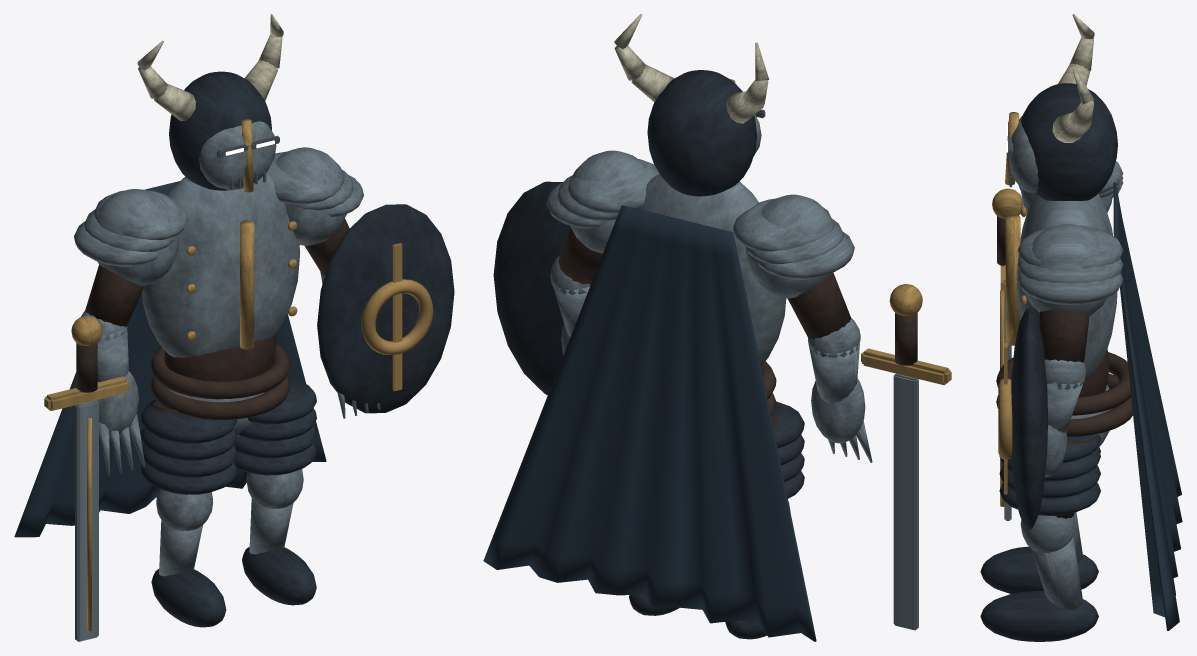
File: enemy_ice_knight.glb
3 renders of one model, left to right at view 1: azimuth 30°, elevation 25°; view 2: azimuth 150°, elevation 25°; view 3: azimuth 270°, elevation 25°, orthographic. The views are drawn at different scales.
Parts seen in each view (by area): view 1: Weathered_blue_steel, Forged_black_iron.003, Weathered_blue_steel.002, Woven_midnight_wool, Forged_black_iron, Oiled_leather, Forged_black_iron.001, Antique_brass.002, Weathered_blue_steel.004, Forged_black_iron.002, Weathered_blue_steel.006, Weathered_blue_steel.001 (+8 smaller); view 2: Woven_midnight_wool, Weathered_blue_steel.002, Forged_black_iron.003, Forged_black_iron.002, Weathered_blue_steel.004, Weathered_blue_steel.006, Weathered_blue_steel, Aged_bone, Forged_black_iron, Oiled_leather.002, Antique_brass.002, Oiled_leather.004 (+1 smaller); view 3: Woven_midnight_wool, Weathered_blue_steel.004, Forged_black_iron.001, Forged_black_iron.002, Forged_black_iron.003, Weathered_blue_steel, Oiled_leather, Weathered_blue_steel.003, Antique_brass.002, Forged_black_iron, Aged_bone, Oiled_leather.004 (+6 smaller).
Boxes of the visible parts, x1=… form: Weathered_blue_steel: x1=142, y1=173, x2=299, y2=437; Forged_black_iron.003: x1=317, y1=204, x2=454, y2=413; Weathered_blue_steel.002: x1=74, y1=189, x2=188, y2=475; Woven_midnight_wool: x1=14, y1=181, x2=326, y2=537; Forged_black_iron: x1=140, y1=400, x2=237, y2=627; Oiled_leather: x1=150, y1=335, x2=290, y2=419; Forged_black_iron.001: x1=234, y1=377, x2=316, y2=605; Antique_brass.002: x1=44, y1=243, x2=433, y2=631; Weathered_blue_steel.004: x1=266, y1=147, x2=380, y2=418; Forged_black_iron.002: x1=169, y1=71, x2=271, y2=190; Weathered_blue_steel.006: x1=75, y1=400, x2=98, y2=641; Weathered_blue_steel.001: x1=156, y1=489, x2=213, y2=576; Woven_midnight_wool: x1=483, y1=205, x2=816, y2=641; Weathered_blue_steel.002: x1=733, y1=194, x2=872, y2=462; Forged_black_iron.003: x1=493, y1=181, x2=570, y2=395; Forged_black_iron.002: x1=647, y1=70, x2=756, y2=196; Weathered_blue_steel.004: x1=546, y1=150, x2=659, y2=354; Weathered_blue_steel.006: x1=893, y1=373, x2=918, y2=630; Weathered_blue_steel: x1=640, y1=174, x2=786, y2=365; Aged_bone: x1=614, y1=14, x2=769, y2=123; Forged_black_iron: x1=725, y1=401, x2=804, y2=639; Oiled_leather.002: x1=788, y1=272, x2=851, y2=339; Antique_brass.002: x1=861, y1=284, x2=951, y2=385; Oiled_leather.004: x1=558, y1=228, x2=602, y2=284; Woven_midnight_wool: x1=1113, y1=182, x2=1182, y2=630; Weathered_blue_steel.004: x1=1017, y1=223, x2=1123, y2=509; Forged_black_iron.001: x1=980, y1=434, x2=1100, y2=641; Forged_black_iron.002: x1=1021, y1=83, x2=1117, y2=200; Forged_black_iron.003: x1=1011, y1=308, x2=1047, y2=529; Weathered_blue_steel: x1=1016, y1=193, x2=1117, y2=448; Oiled_leather: x1=996, y1=349, x2=1132, y2=436; Weathered_blue_steel.003: x1=1020, y1=515, x2=1082, y2=609; Antique_brass.002: x1=992, y1=188, x2=1023, y2=506; Forged_black_iron: x1=980, y1=447, x2=1100, y2=593; Aged_bone: x1=1052, y1=14, x2=1094, y2=142; Oiled_leather.004: x1=1039, y1=309, x2=1089, y2=362.
Bounding box in the file's own units: 3.36 × 4.35 × 1.38.
9 materials, 7 textured.
